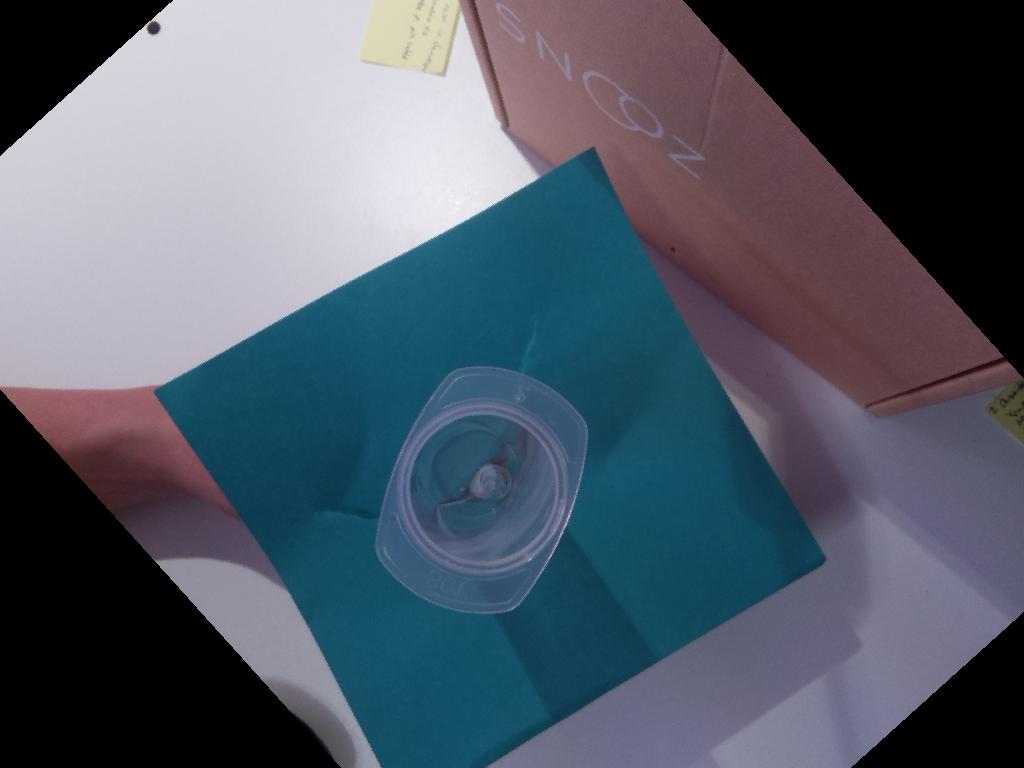clean: (364, 359, 592, 616)
